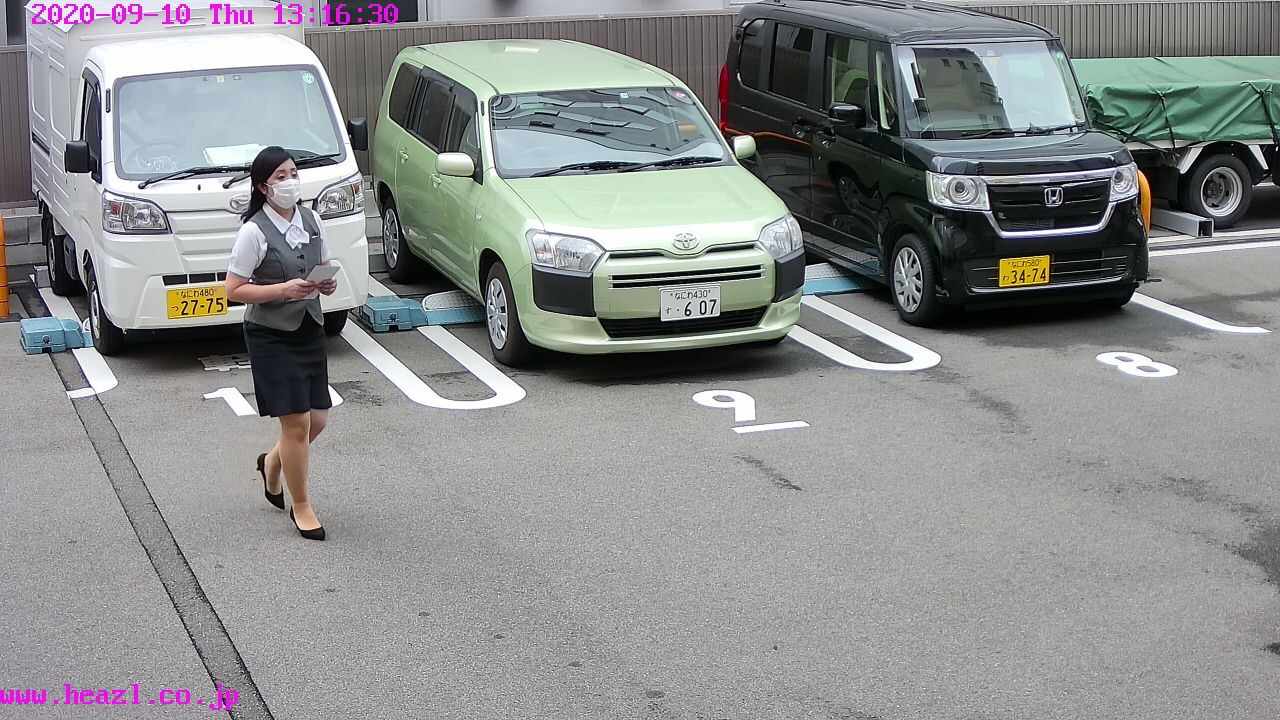number_plate: (662, 286, 721, 317), (166, 288, 227, 317), (1000, 257, 1050, 286)
